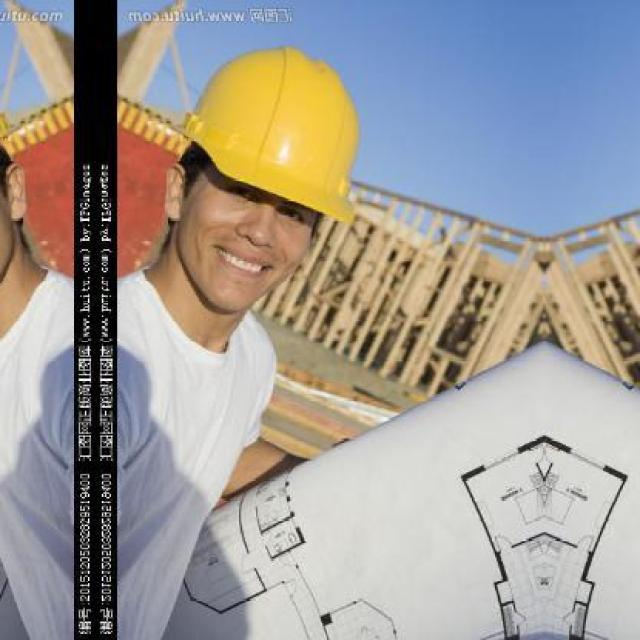safetyhelmet: (162, 44, 363, 250)
